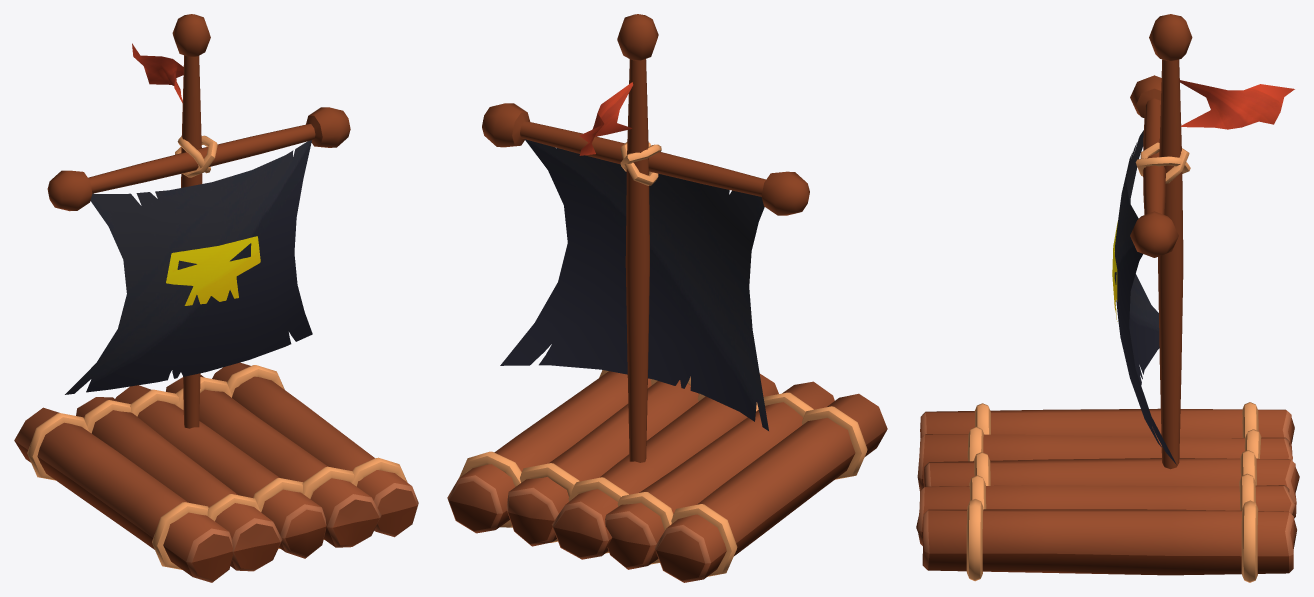
Rendered from Raft.fbx.
3 views of the same model, side by side, from view 1: azimuth 30°, elevation 25°; view 2: azimuth 150°, elevation 25°; view 3: azimuth 270°, elevation 25° (orthographic). The views are drawn at different scales.
Visible parts, largest first — view 1: Color_01, Color_Cloth_01; view 2: Color_01, Color_Cloth_01; view 3: Color_01, Color_Cloth_01.
Part boxes in pixels (left/top/right/bottom): Color_01: left=14, top=14, right=418, bottom=582; Color_Cloth_01: left=65, top=43, right=312, bottom=394; Color_01: left=447, top=14, right=887, bottom=582; Color_Cloth_01: left=500, top=82, right=768, bottom=430; Color_01: left=916, top=14, right=1299, bottom=582; Color_Cloth_01: left=1112, top=80, right=1294, bottom=464.
Bounding box in the file's own units: 16.13 × 24.3 × 16.32.
